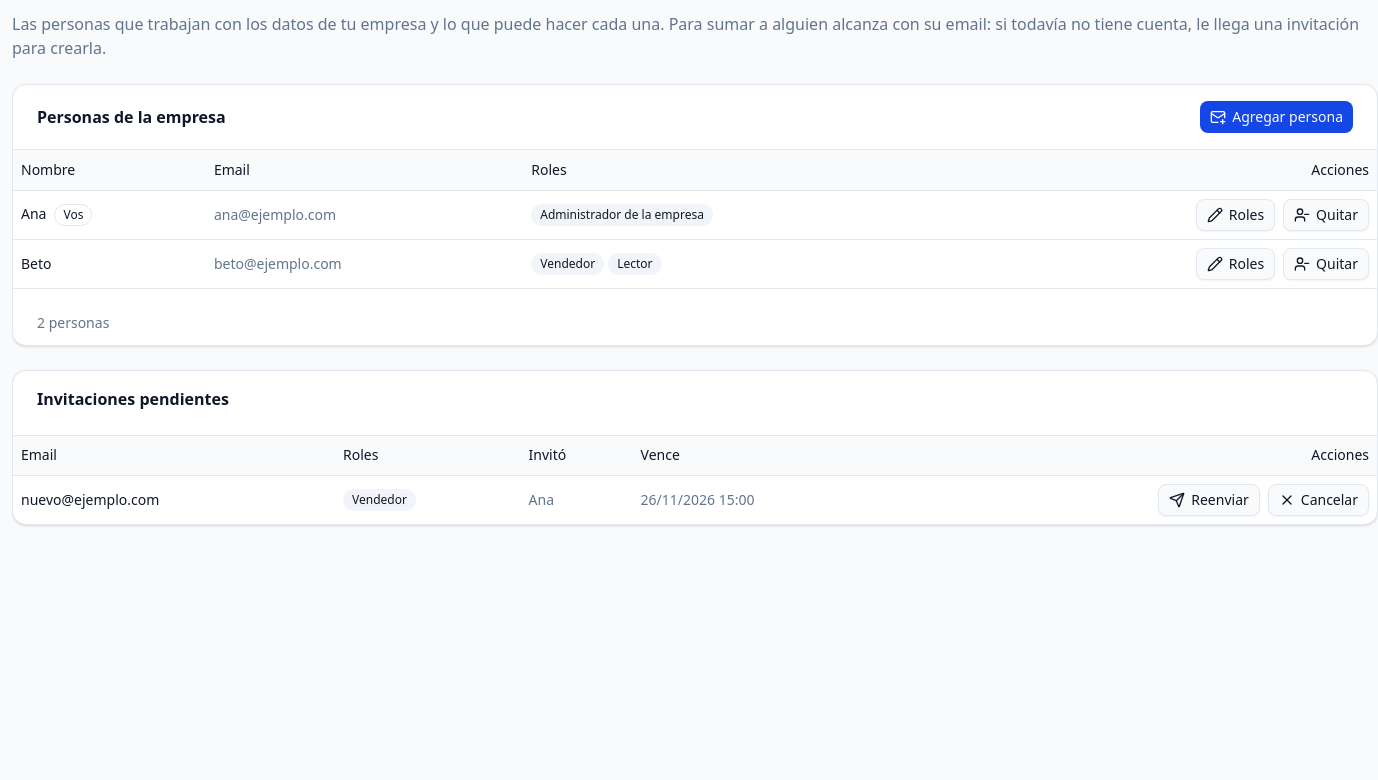
Equipo › invitaciones pendientes › reenviar vuelve a invitar al mismo email con los mismos roles
Click the button with aria-label "Reenviar la invitación a nuevo@ejemplo.com" at (1209, 500), box [1158,484,1260,516]
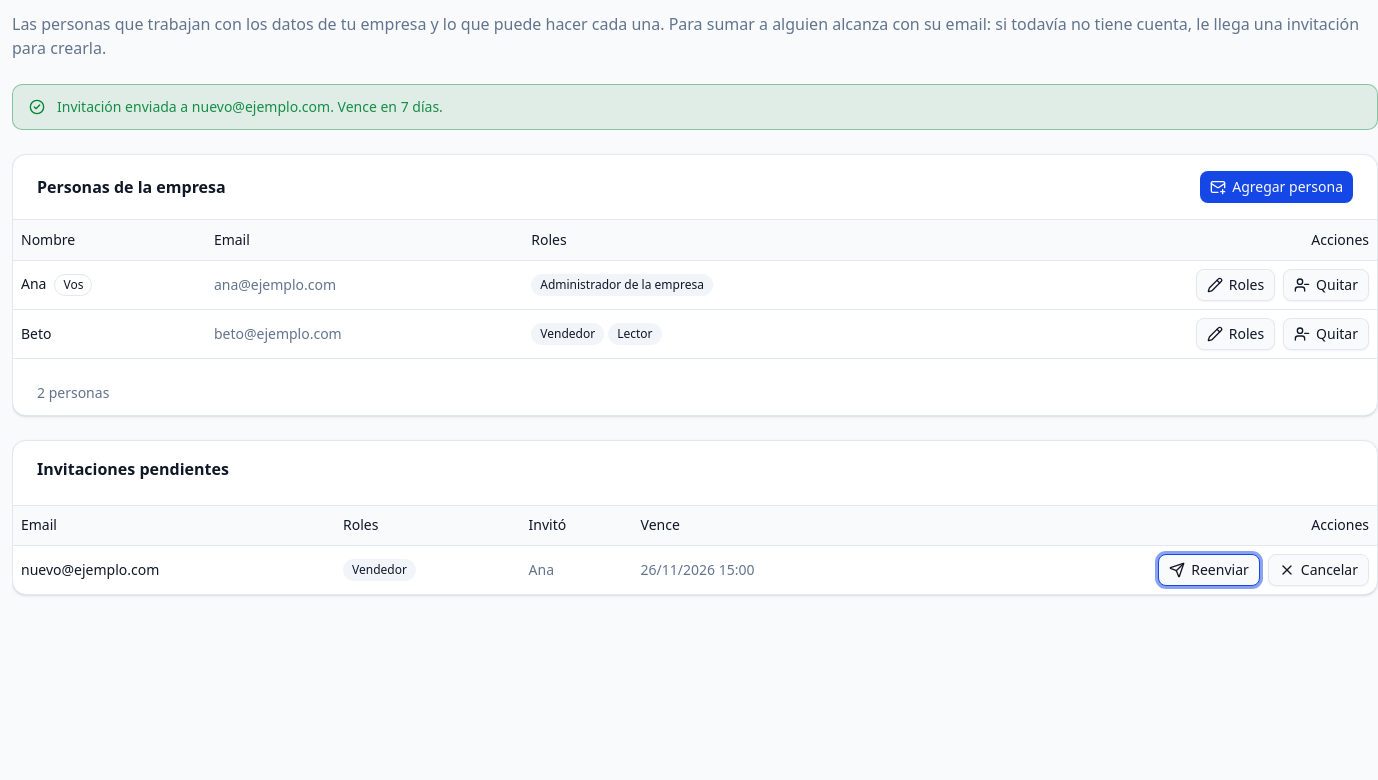
Check: the text "Invitación enviada a nuevo@ejemplo.com. Vence en 7 días." is shown, box [57,97,443,116]
